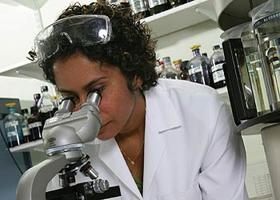person: (33, 2, 250, 199)
